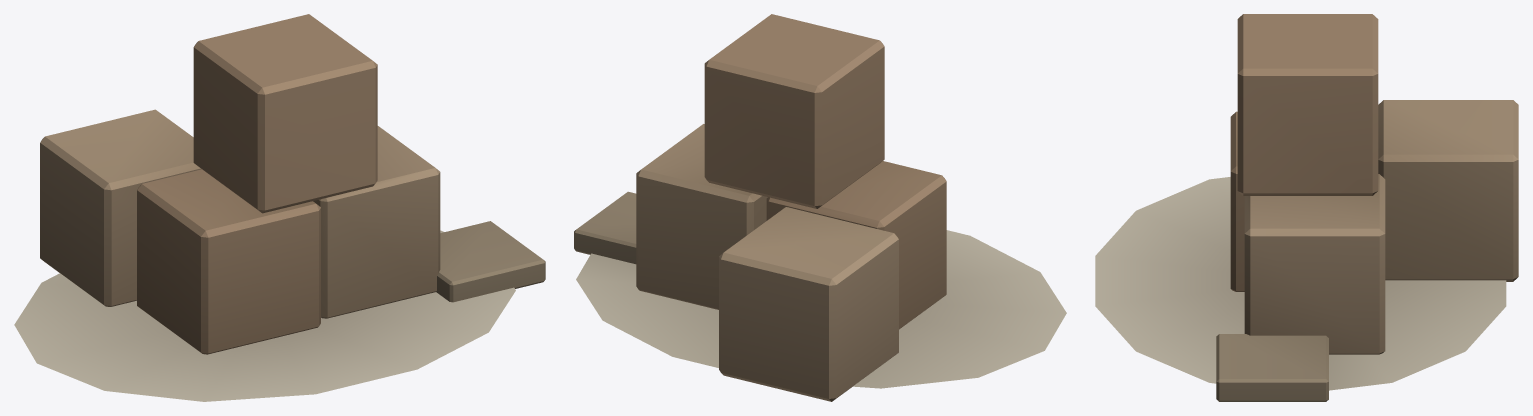
File: crate_stack.glb
3 renders of one model, left to right at view 1: azimuth 30°, elevation 25°; view 2: azimuth 150°, elevation 25°; view 3: azimuth 270°, elevation 25°, orthographic. The views are drawn at different scales.
Visible parts, largest first — view 1: crate_stack; view 2: crate_stack; view 3: crate_stack.
Part boxes in pixels (bbox=[...]): crate_stack: bbox=[14, 14, 545, 401]; crate_stack: bbox=[574, 14, 1066, 401]; crate_stack: bbox=[1095, 14, 1518, 401].
Size of the model in its own units: 3.9 by 2 by 3.01.
